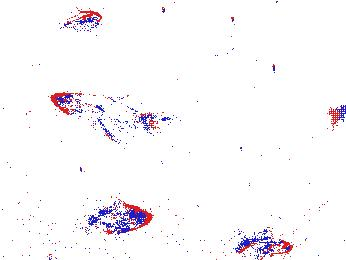X-ray fish: (89, 203, 152, 234)
red belly glassfish: (241, 235, 294, 255), (59, 10, 103, 34)
redtail glassfish: (49, 91, 169, 136)
